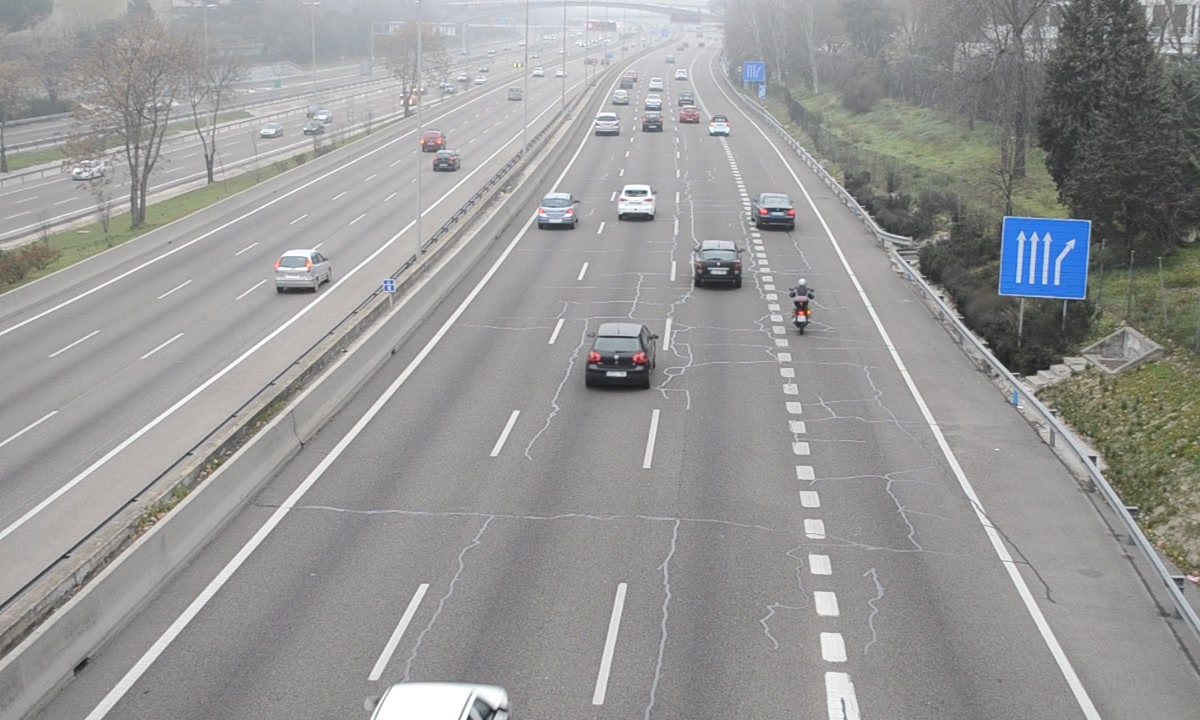car: (587, 321, 656, 385), (693, 241, 744, 288), (754, 192, 796, 229), (537, 194, 579, 229), (619, 185, 658, 220), (594, 110, 622, 135), (710, 114, 730, 138)
motorcycle: (788, 276, 815, 338)
